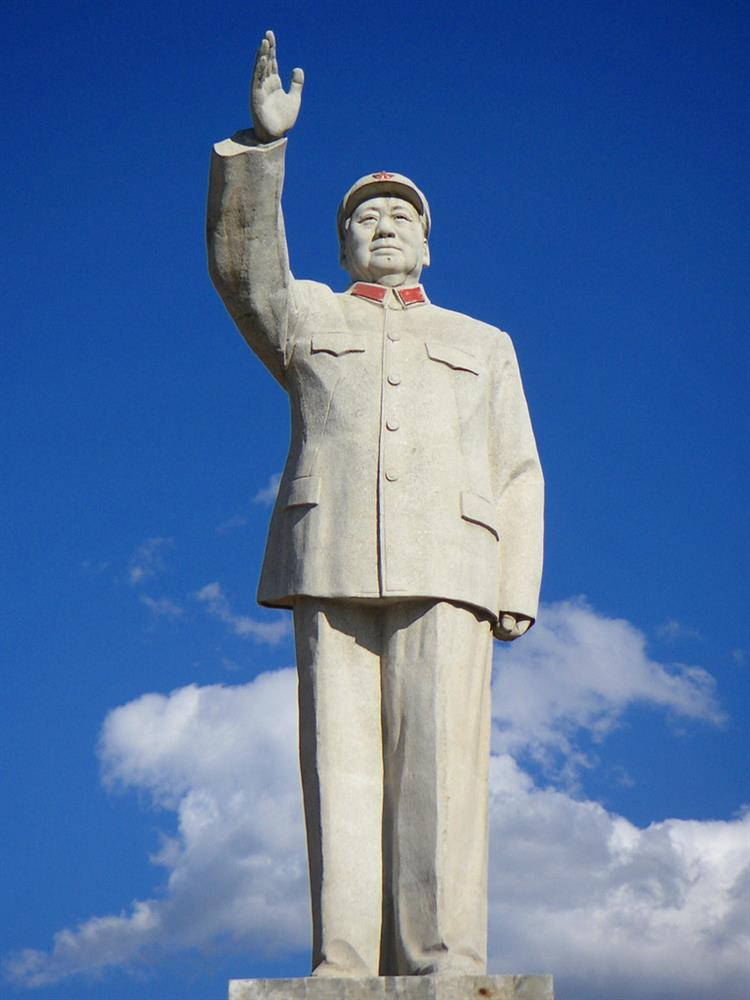Chairman_Mao_Statue: (209, 9, 567, 972)
